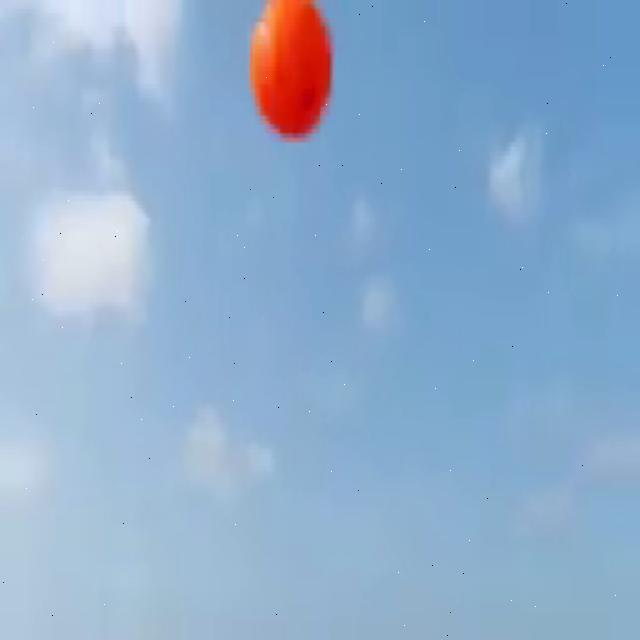red: (247, 0, 333, 140)
